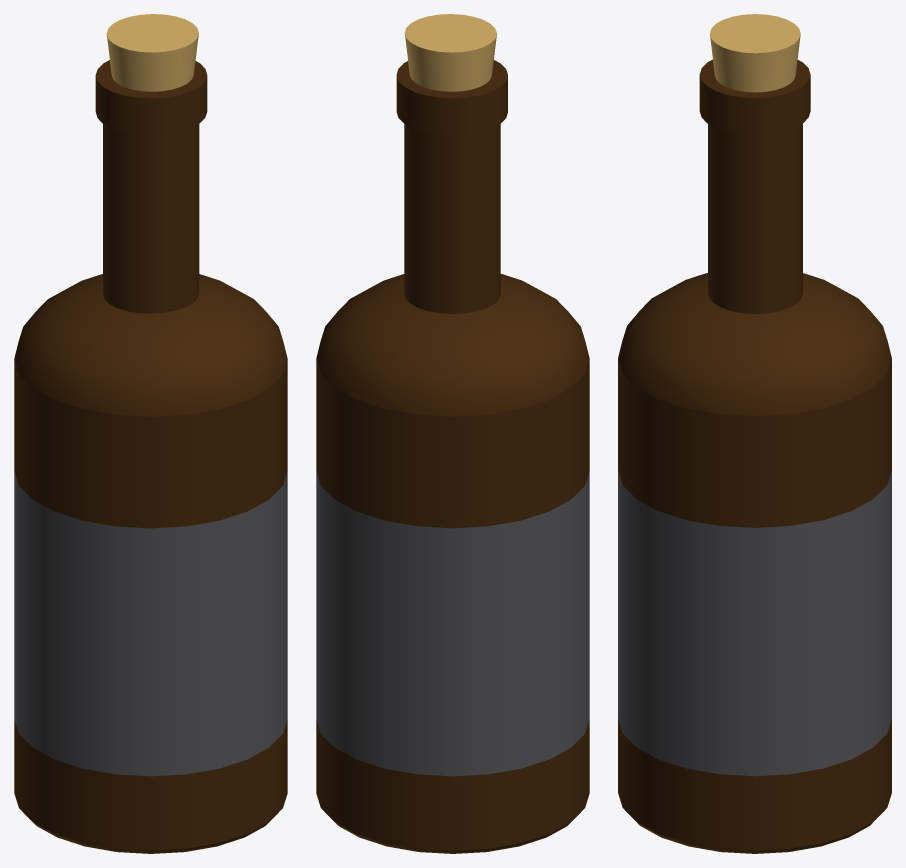
Rendered from wine bottle B.fbx.
3 views of the same model, side by side, from view 1: azimuth 30°, elevation 25°; view 2: azimuth 150°, elevation 25°; view 3: azimuth 270°, elevation 25° (orthographic).
Parts seen in each view (by area): view 1: mergedBlocks; view 2: mergedBlocks; view 3: mergedBlocks.
Part boxes in pixels (bbox=[...]): mergedBlocks: bbox=[14, 14, 287, 853]; mergedBlocks: bbox=[316, 14, 589, 853]; mergedBlocks: bbox=[618, 14, 891, 853].
Size of the model in its own units: 10 by 31.41 by 10.
